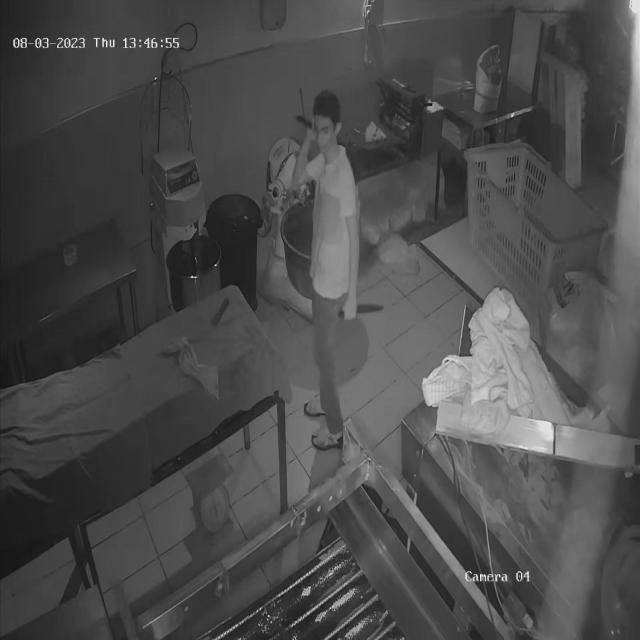Knife: (333, 295, 400, 324), (291, 112, 318, 135)
